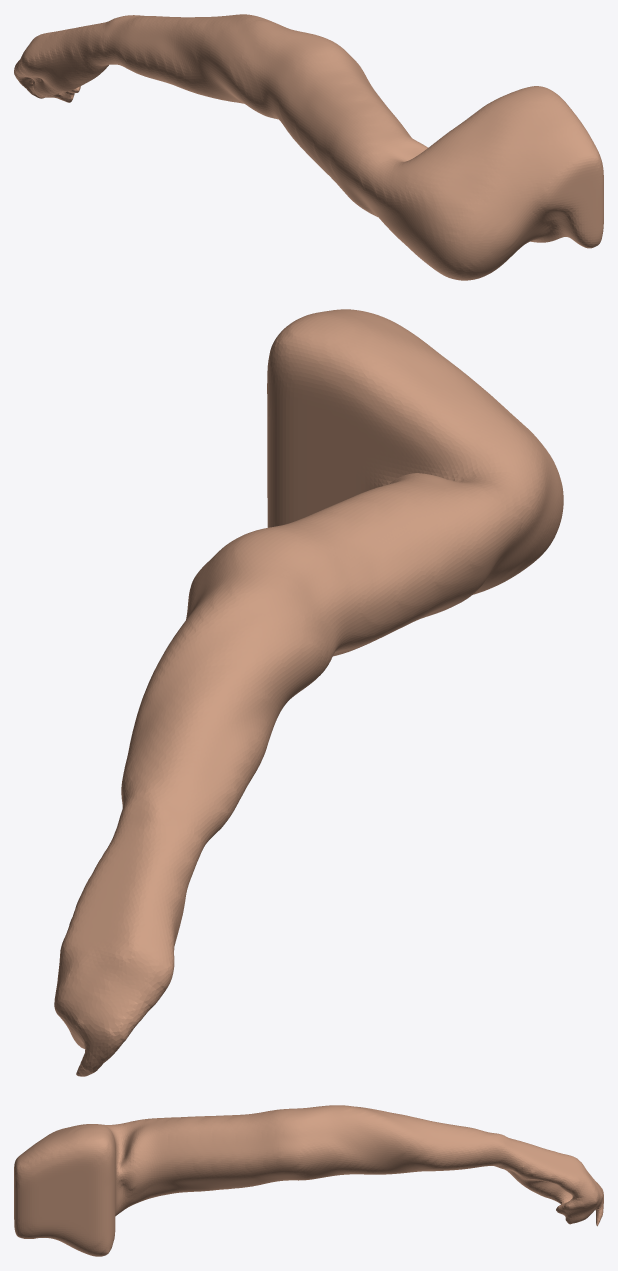
Rendered from upperextremity_skin.glb.
3 views of the same model, one above another, from view 1: azimuth 30°, elevation 25°; view 2: azimuth 150°, elevation 25°; view 3: azimuth 270°, elevation 25° (orthographic). The views are drawn at different scales.
Visible parts, largest first — view 1: world; view 2: world; view 3: world.
Part boxes in pixels (<box>): world: <box>14,14,603,280</box>; world: <box>54,309,563,1076</box>; world: <box>14,1105,603,1256</box>.
Bounding box in the file's own units: 247 × 201 × 681.
